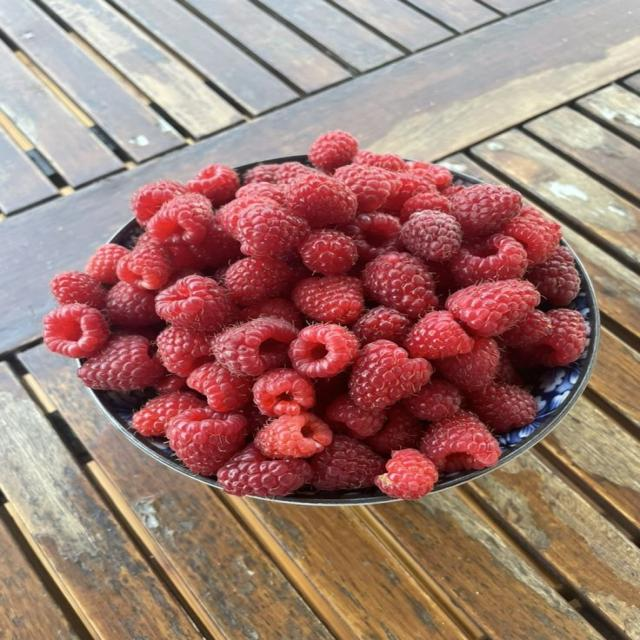raspberry: (349, 340, 433, 410), (167, 407, 246, 476), (446, 280, 539, 337), (363, 252, 438, 319), (212, 318, 297, 376), (78, 335, 166, 391), (218, 445, 312, 497), (420, 411, 499, 472), (156, 276, 233, 333), (233, 201, 309, 257), (311, 435, 385, 490), (450, 234, 527, 286), (163, 219, 241, 270), (286, 173, 357, 227), (289, 324, 359, 377), (451, 184, 521, 236), (43, 304, 109, 358), (254, 413, 333, 458), (292, 276, 364, 324), (502, 206, 561, 264), (404, 311, 473, 359), (471, 384, 537, 433), (187, 363, 253, 412), (147, 194, 213, 243), (132, 392, 205, 436), (225, 258, 293, 305), (438, 338, 499, 390), (375, 449, 438, 499), (401, 211, 461, 261), (334, 165, 397, 212), (341, 213, 401, 262), (253, 368, 314, 416), (527, 250, 580, 305), (366, 406, 423, 457), (536, 310, 586, 366), (117, 241, 173, 290), (299, 229, 358, 275), (325, 395, 385, 439), (157, 327, 209, 376), (131, 181, 187, 226), (216, 196, 278, 236), (106, 282, 159, 327), (403, 380, 462, 420), (353, 306, 411, 345), (383, 172, 433, 215), (187, 165, 239, 206), (50, 272, 106, 309), (308, 131, 358, 172), (163, 239, 206, 285), (240, 298, 304, 328), (500, 310, 551, 347), (86, 244, 127, 284), (400, 191, 450, 223), (314, 371, 349, 414), (407, 162, 452, 191), (426, 262, 457, 299), (353, 150, 405, 171), (236, 182, 284, 204), (284, 253, 313, 288), (277, 162, 321, 185), (494, 351, 523, 385), (241, 404, 268, 439), (113, 325, 159, 344), (405, 167, 438, 191), (163, 269, 203, 288), (243, 164, 279, 184), (154, 376, 186, 395), (553, 246, 574, 264), (440, 184, 466, 198)
